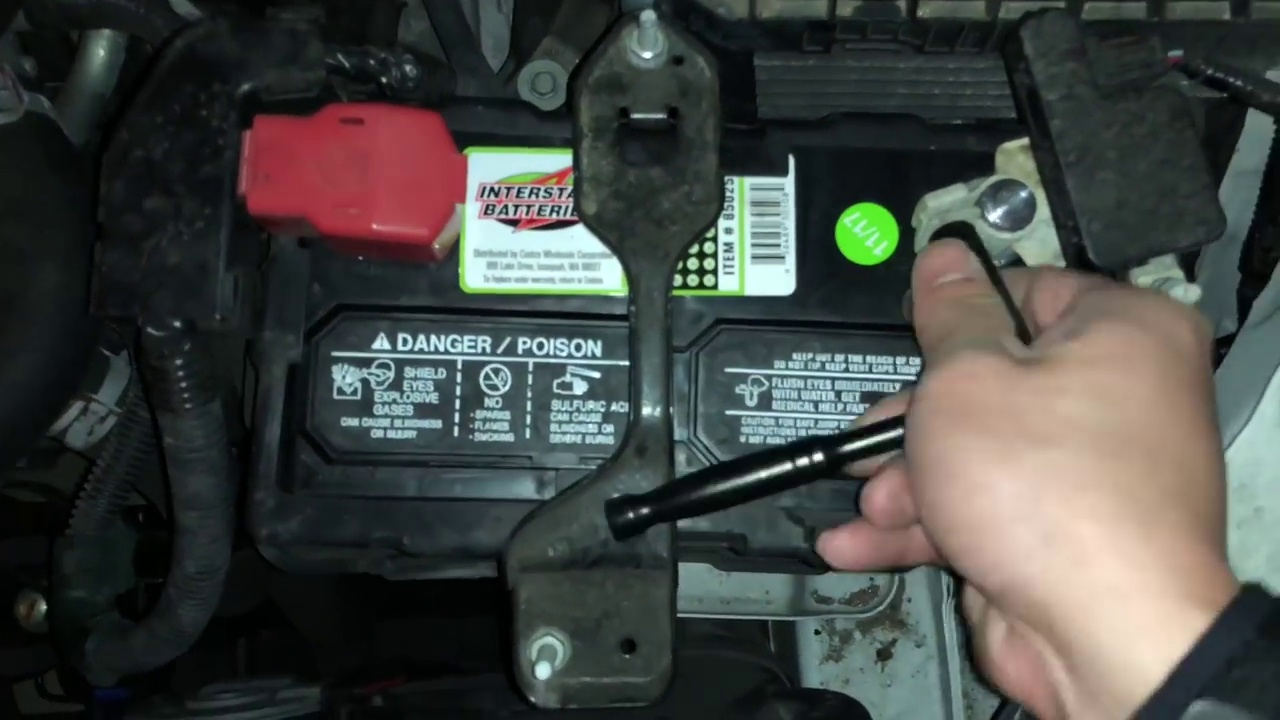battery: (254, 111, 1055, 571)
neg_connected: (896, 126, 1096, 278)
neg_touched: (880, 106, 1106, 455)
pos_connected: (187, 71, 458, 272)
